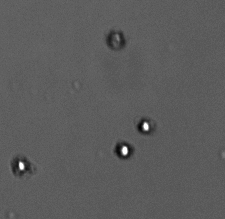Dead Cell: (106, 30, 125, 49)
Living Cell: (12, 157, 32, 176), (114, 141, 134, 159), (136, 118, 156, 134)
